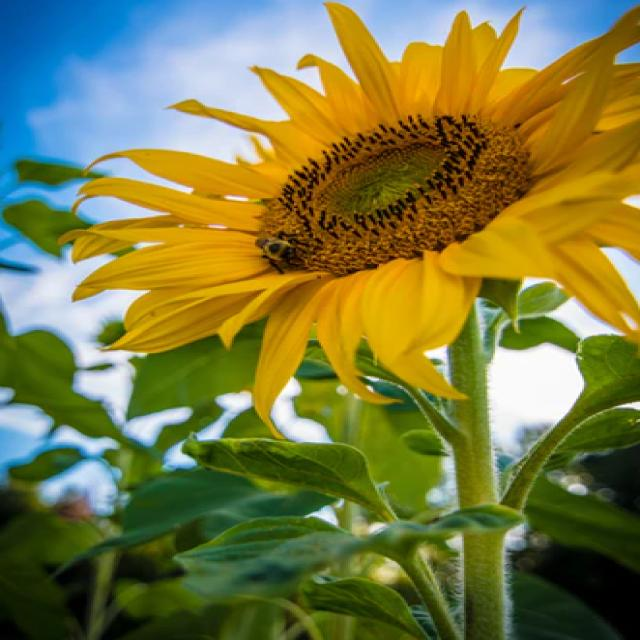sunflower: (48, 3, 640, 422)
